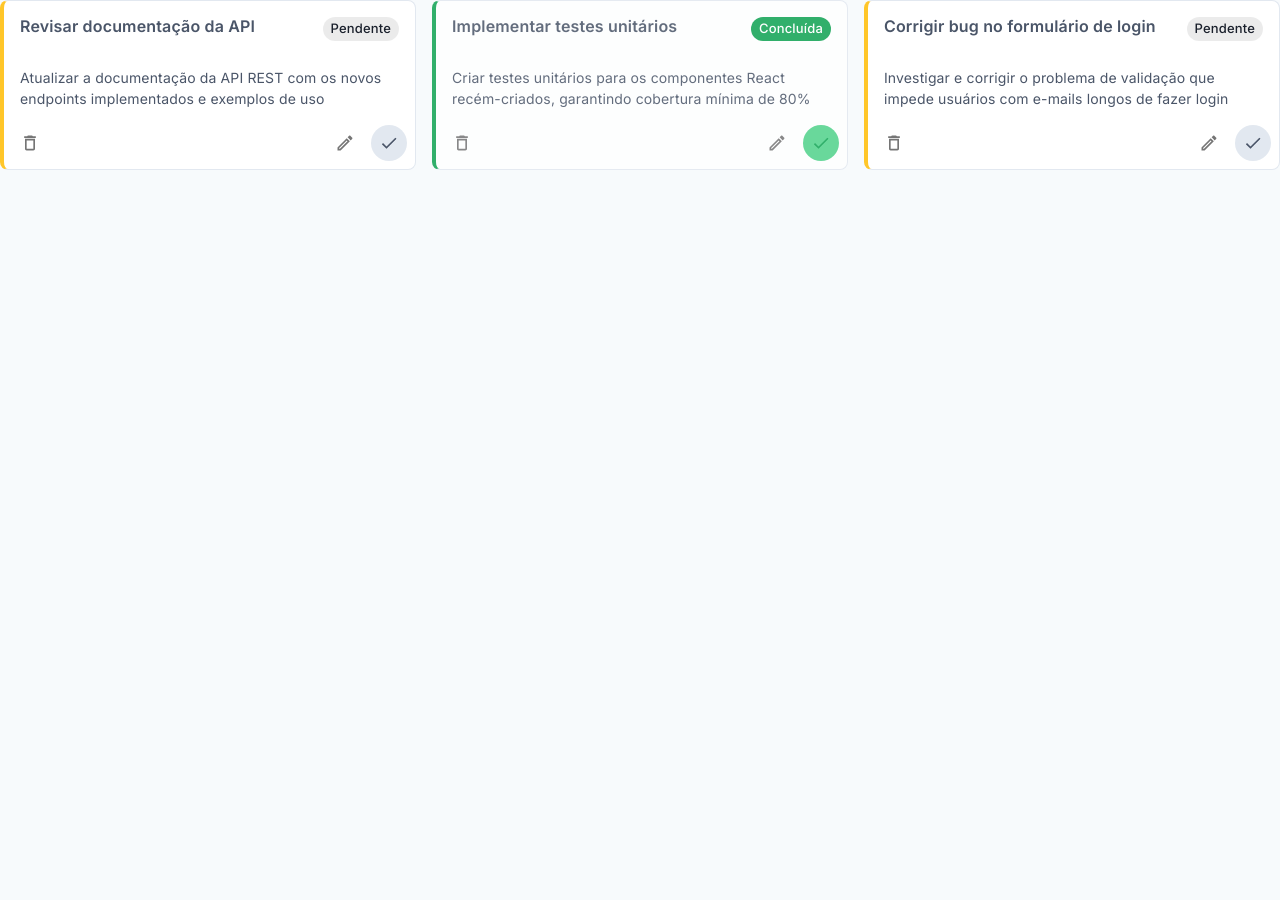
it: TaskList - Integration Tests › Ref. Use Case 005 - Delete task flow › should delete task when confirming dialog box
This screenshot has width=1280, height=900.
Expected: the text "Revisar documentação da API" is shown, [20,16,255,36]
Step 1. Click the button named "excluir tarefa" below "Revisar documentação da API" → click(30, 143), box [12,125,48,161]
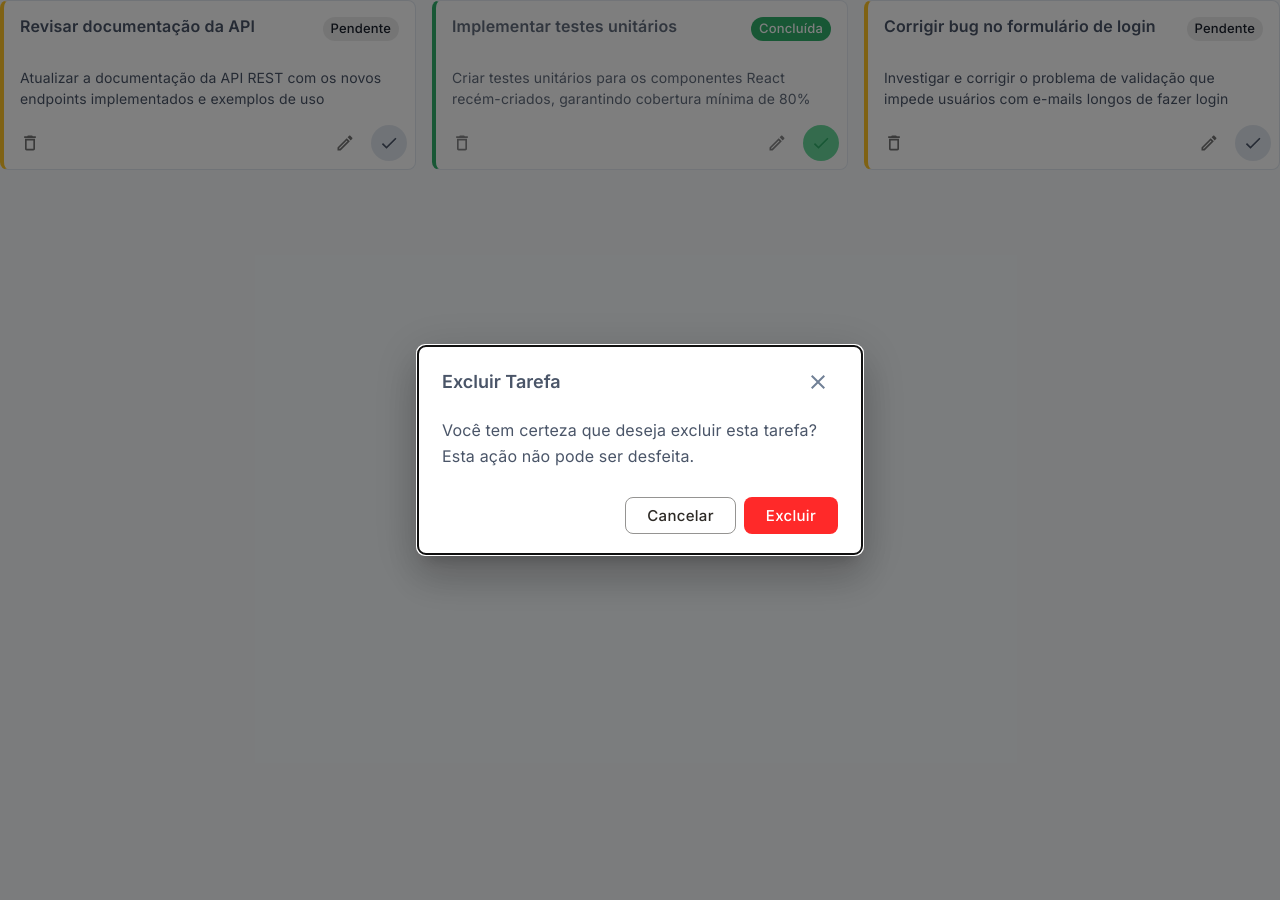
Expected: the text "Excluir Tarefa" is shown, [442,369,561,395]
Expected: the text "Você tem certeza que deseja excluir esta tarefa" is shown, [442,420,817,466]
Step 2. Click the button "Excluir" → click(791, 516), box [744,497,838,534]
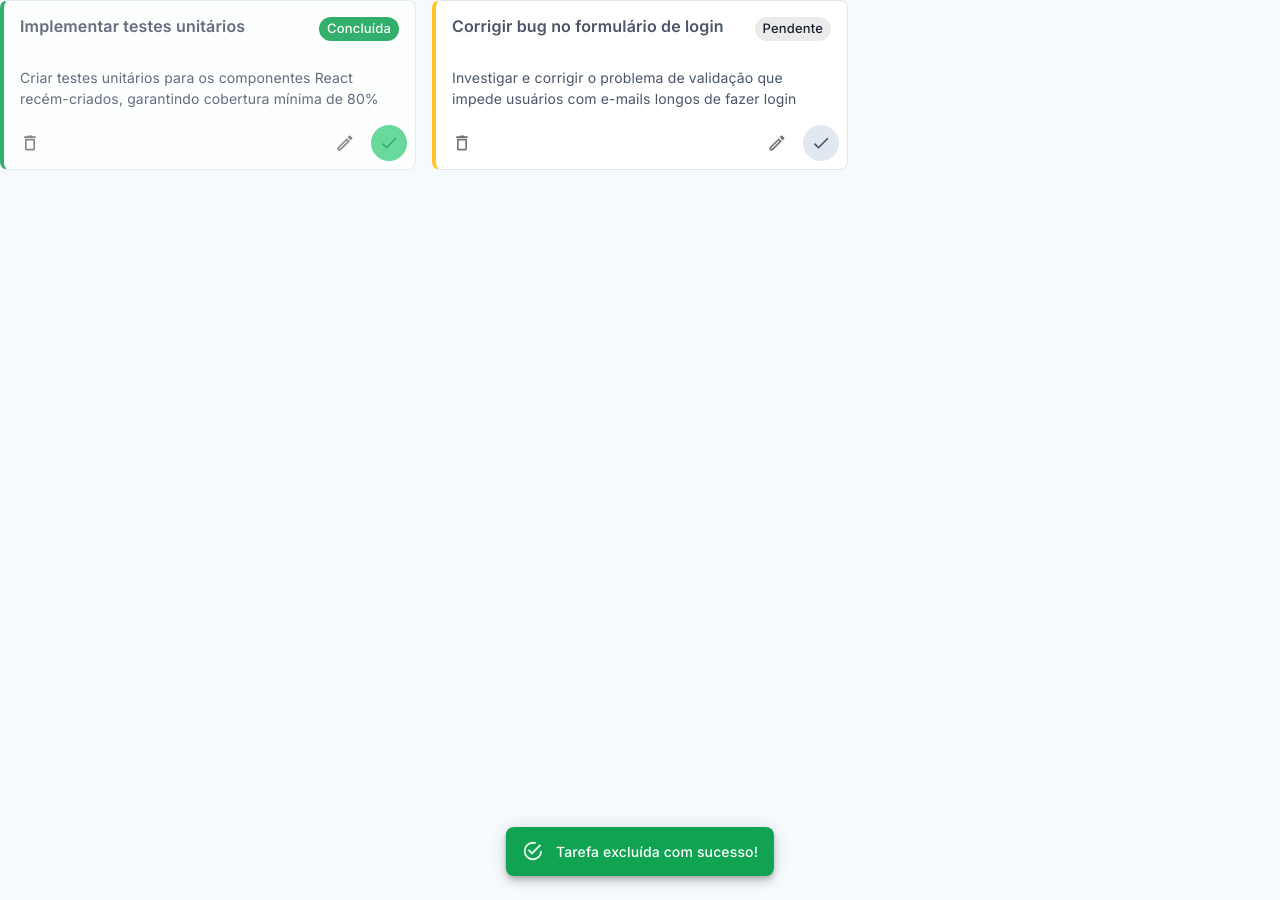
Expected: the number of buttons named "excluir tarefa" is 2, [12,125,48,161]; [444,125,480,161]
